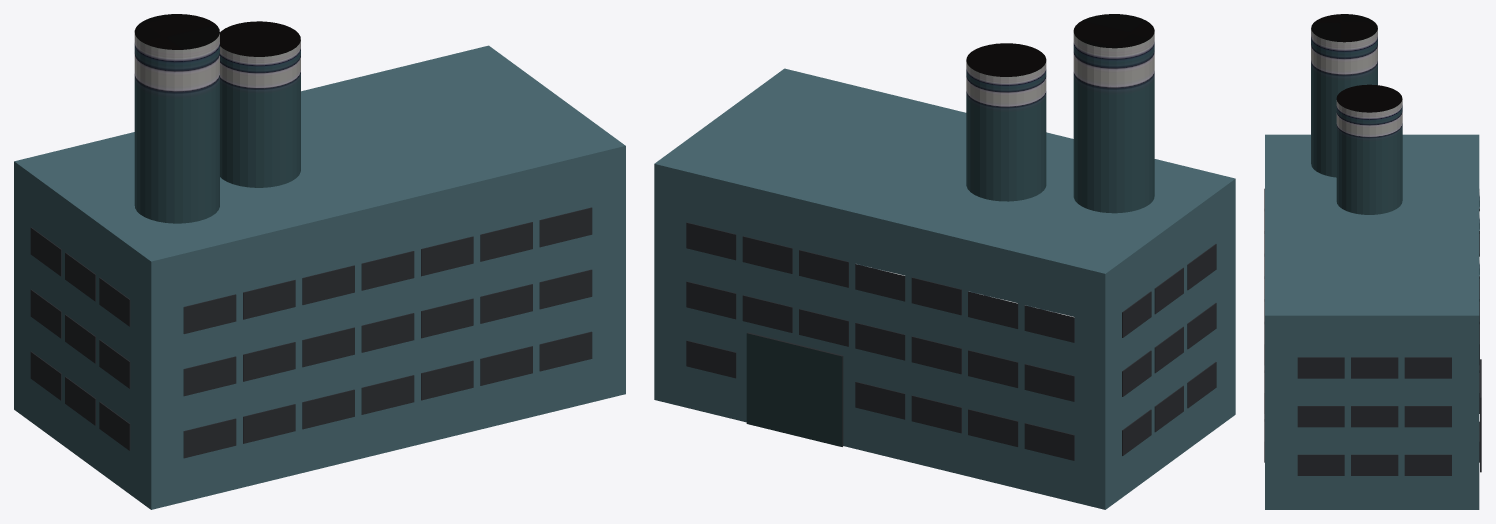
Rendered from factory 2.fbx.
The picture shows the model from 3 angles, left to right: view 1: azimuth 30°, elevation 25°; view 2: azimuth 150°, elevation 25°; view 3: azimuth 270°, elevation 25°; orthographic projection. The views are drawn at different scales.
Visible parts, largest first — view 1: Cube.049; view 2: Cube.049; view 3: Cube.049.
Boxes of the visible parts, x1,y1,x2,y2 form: Cube.049: [14, 14, 625, 509]; Cube.049: [654, 14, 1235, 509]; Cube.049: [1264, 14, 1481, 509].
Size of the model in its own units: 1606 by 1359 by 812.
Materials: 1 (1 with a texture image).
